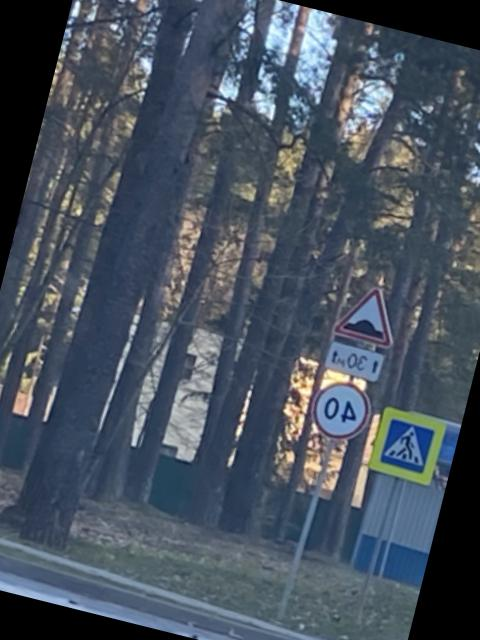crosswalk-sign: (369, 404, 451, 488)
